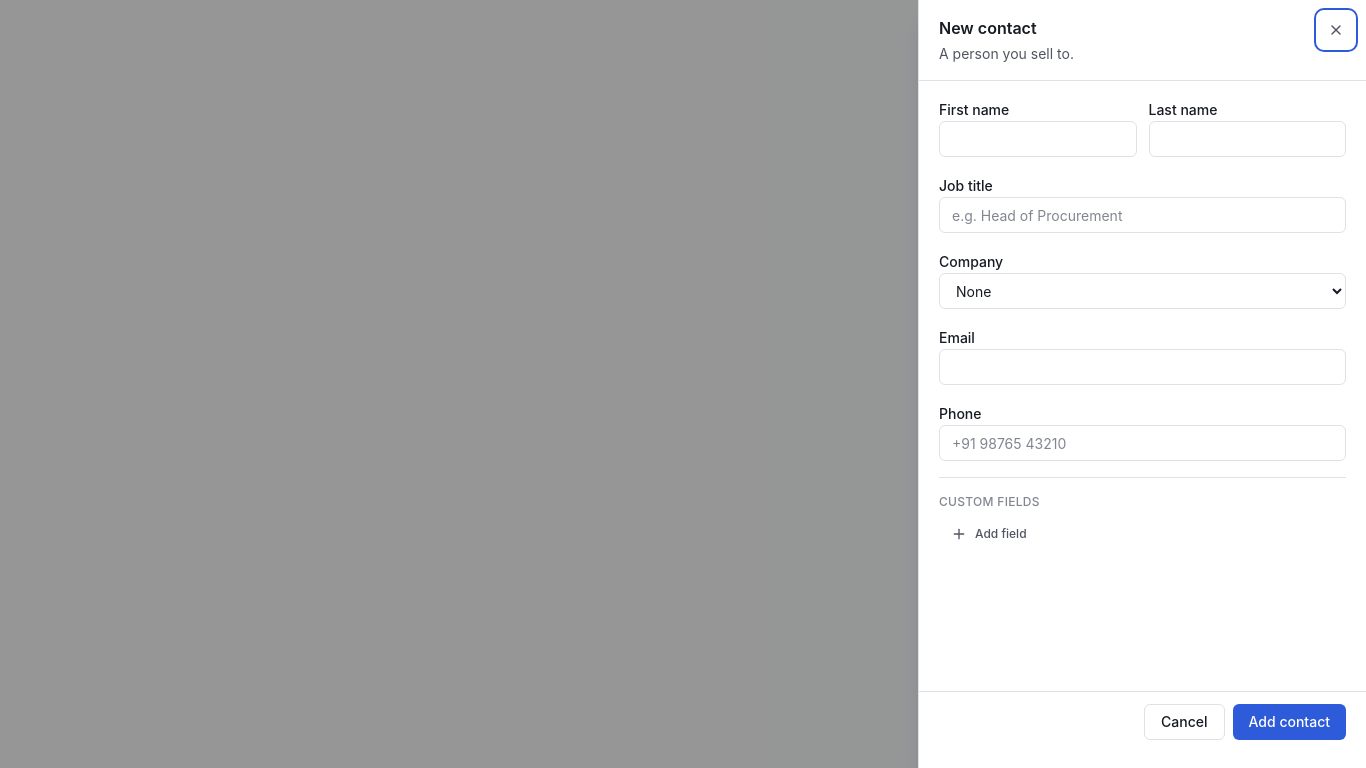
Test case: ContactSheet › checks again after the details change
The width and height of the screenshot is (1366, 768).
Type "Priya" into the field labelled "First name". click: (1038, 139)
box: [939,121,1136,157]
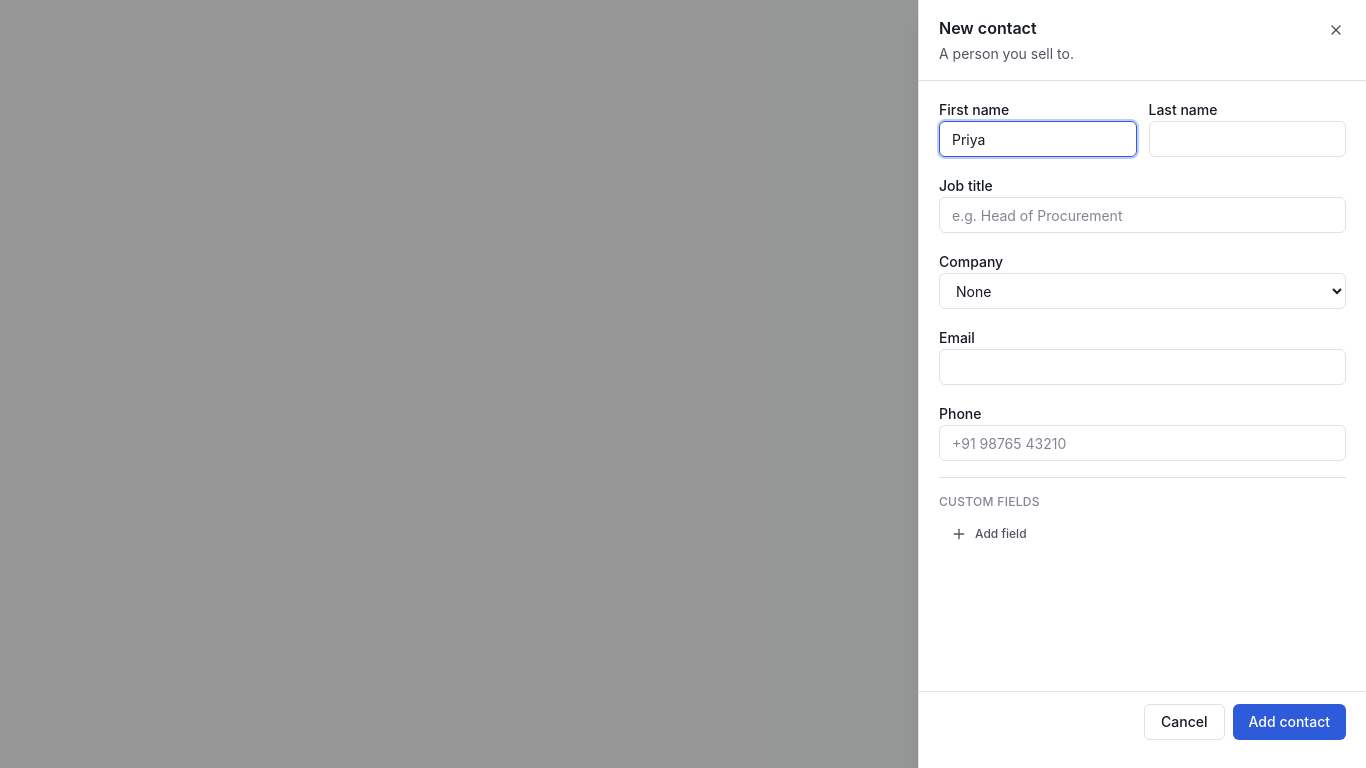
Click the button "Add contact". click: click(1289, 722)
box: [1232,704,1346,740]
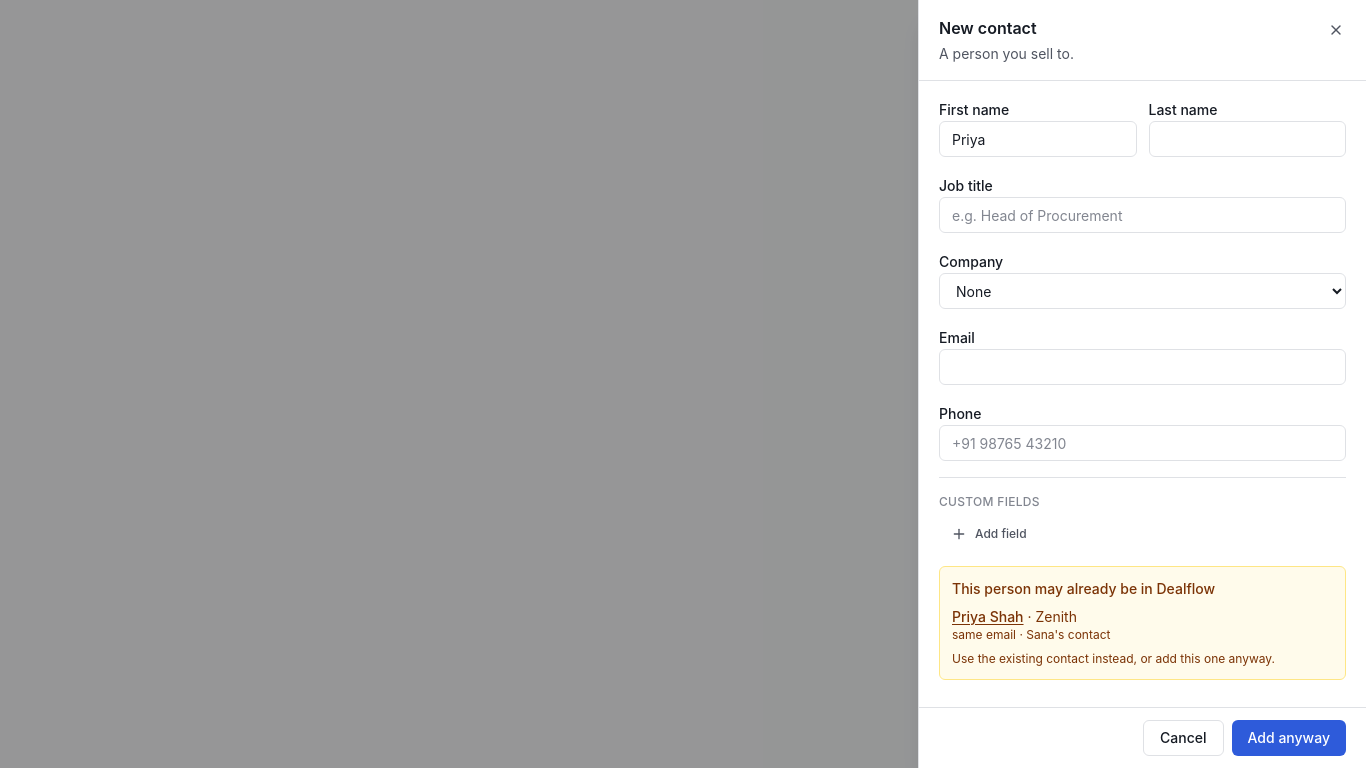
Expected: the message is shown, [939,566,1346,680]
Type "S" into the field labelled "Last name". click: (1247, 139)
box: [1148,121,1346,157]
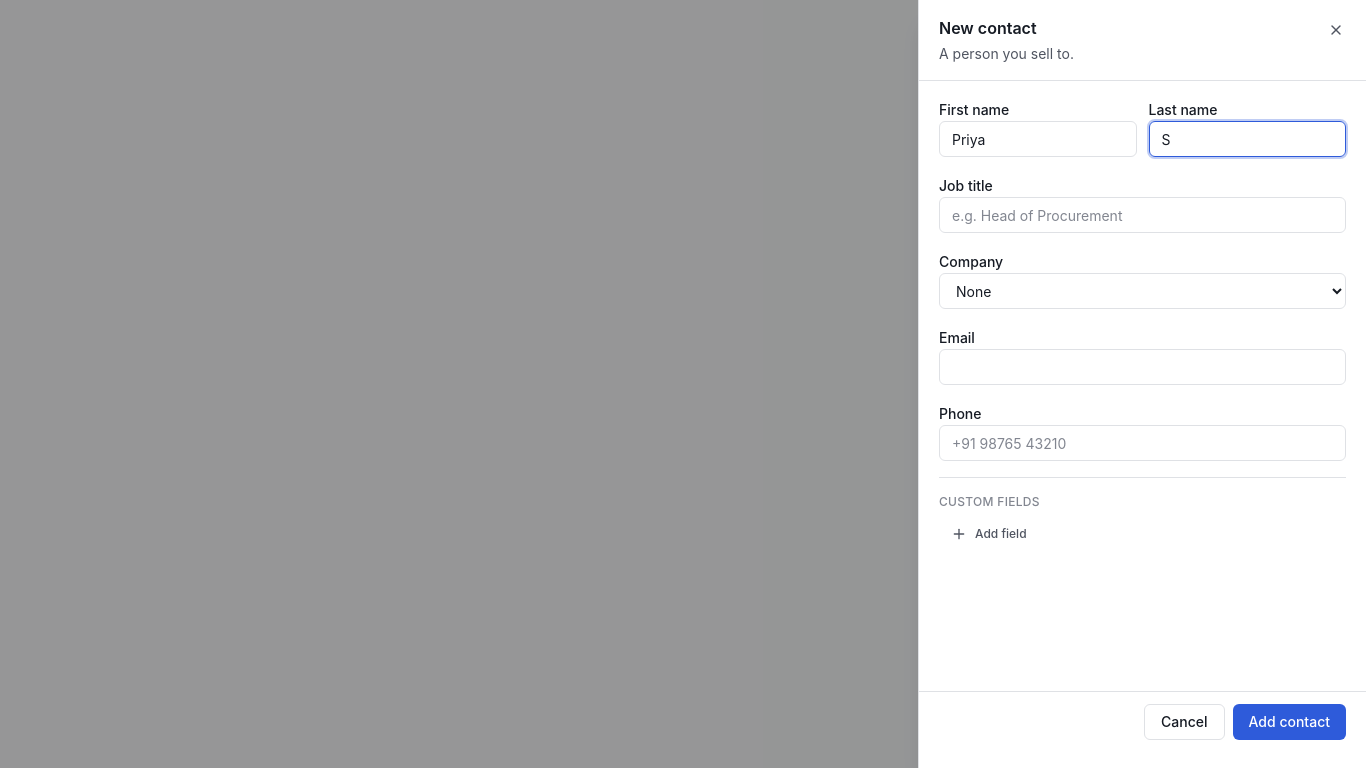
Expected: the message is gone
Click the button "Add contact". click: click(1289, 722)
box: [1232,704,1346,740]
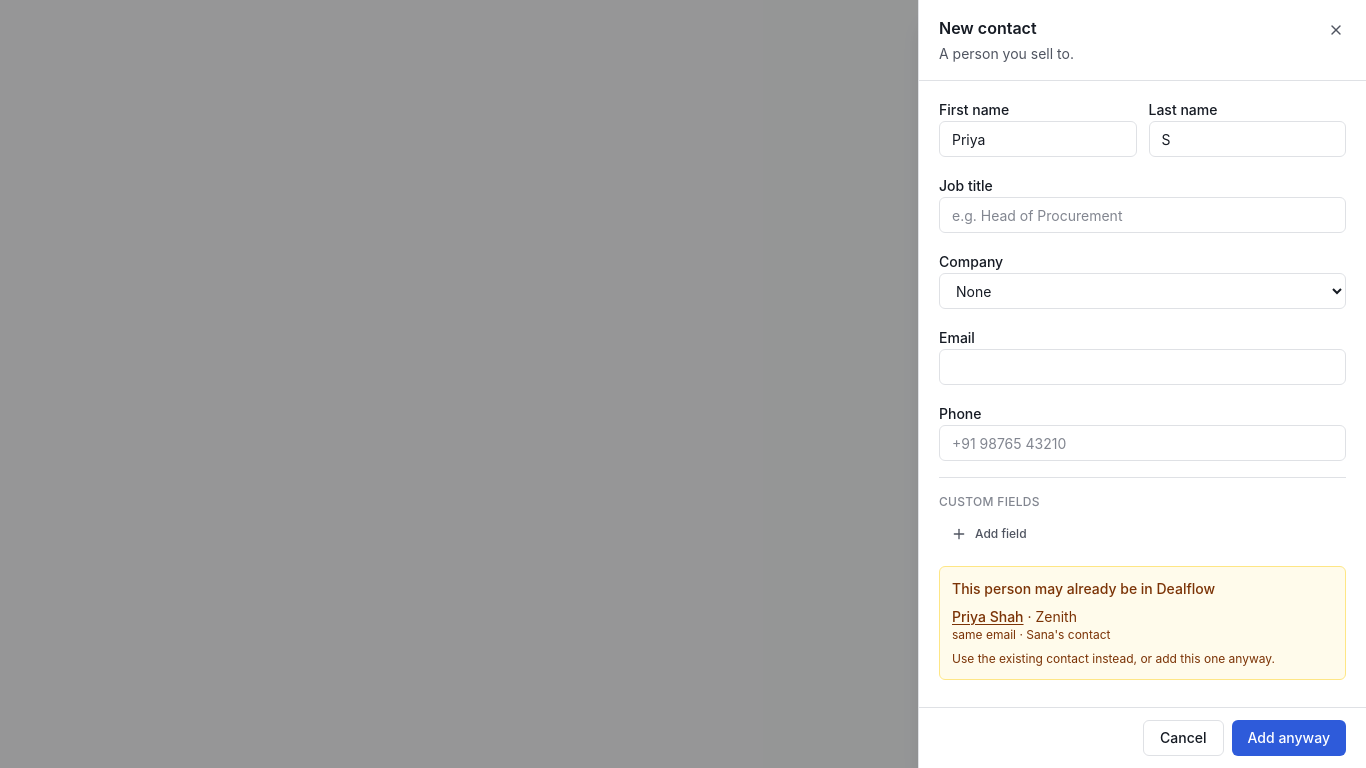
Expected: the message is shown, [939,566,1346,680]
